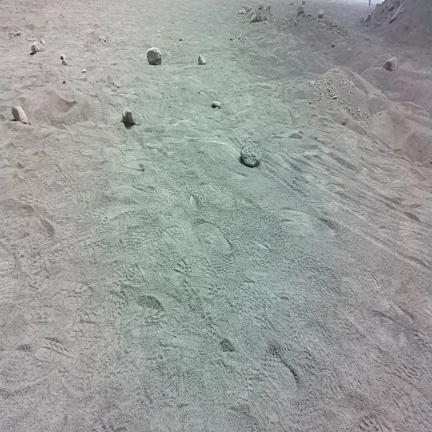Rock: (241, 140, 261, 167), (123, 107, 141, 125), (147, 47, 162, 65), (12, 106, 27, 123), (390, 4, 402, 23), (383, 56, 397, 72), (31, 42, 44, 53), (9, 29, 21, 38), (288, 133, 301, 139), (250, 13, 258, 22), (364, 14, 371, 24), (212, 101, 221, 108), (243, 6, 251, 13), (198, 56, 205, 64), (246, 11, 253, 19), (298, 6, 304, 15), (238, 8, 247, 14), (262, 14, 268, 21), (99, 36, 106, 42), (40, 37, 45, 45), (319, 9, 323, 18), (342, 119, 348, 125), (266, 4, 270, 12), (258, 4, 263, 10), (375, 22, 381, 27), (62, 59, 67, 65), (81, 69, 88, 73), (258, 15, 262, 22), (361, 17, 364, 24), (61, 54, 65, 59), (62, 80, 66, 84), (404, 25, 408, 29), (332, 42, 335, 47), (302, 0, 305, 4), (179, 37, 182, 41), (290, 2, 294, 5), (348, 48, 351, 51)
